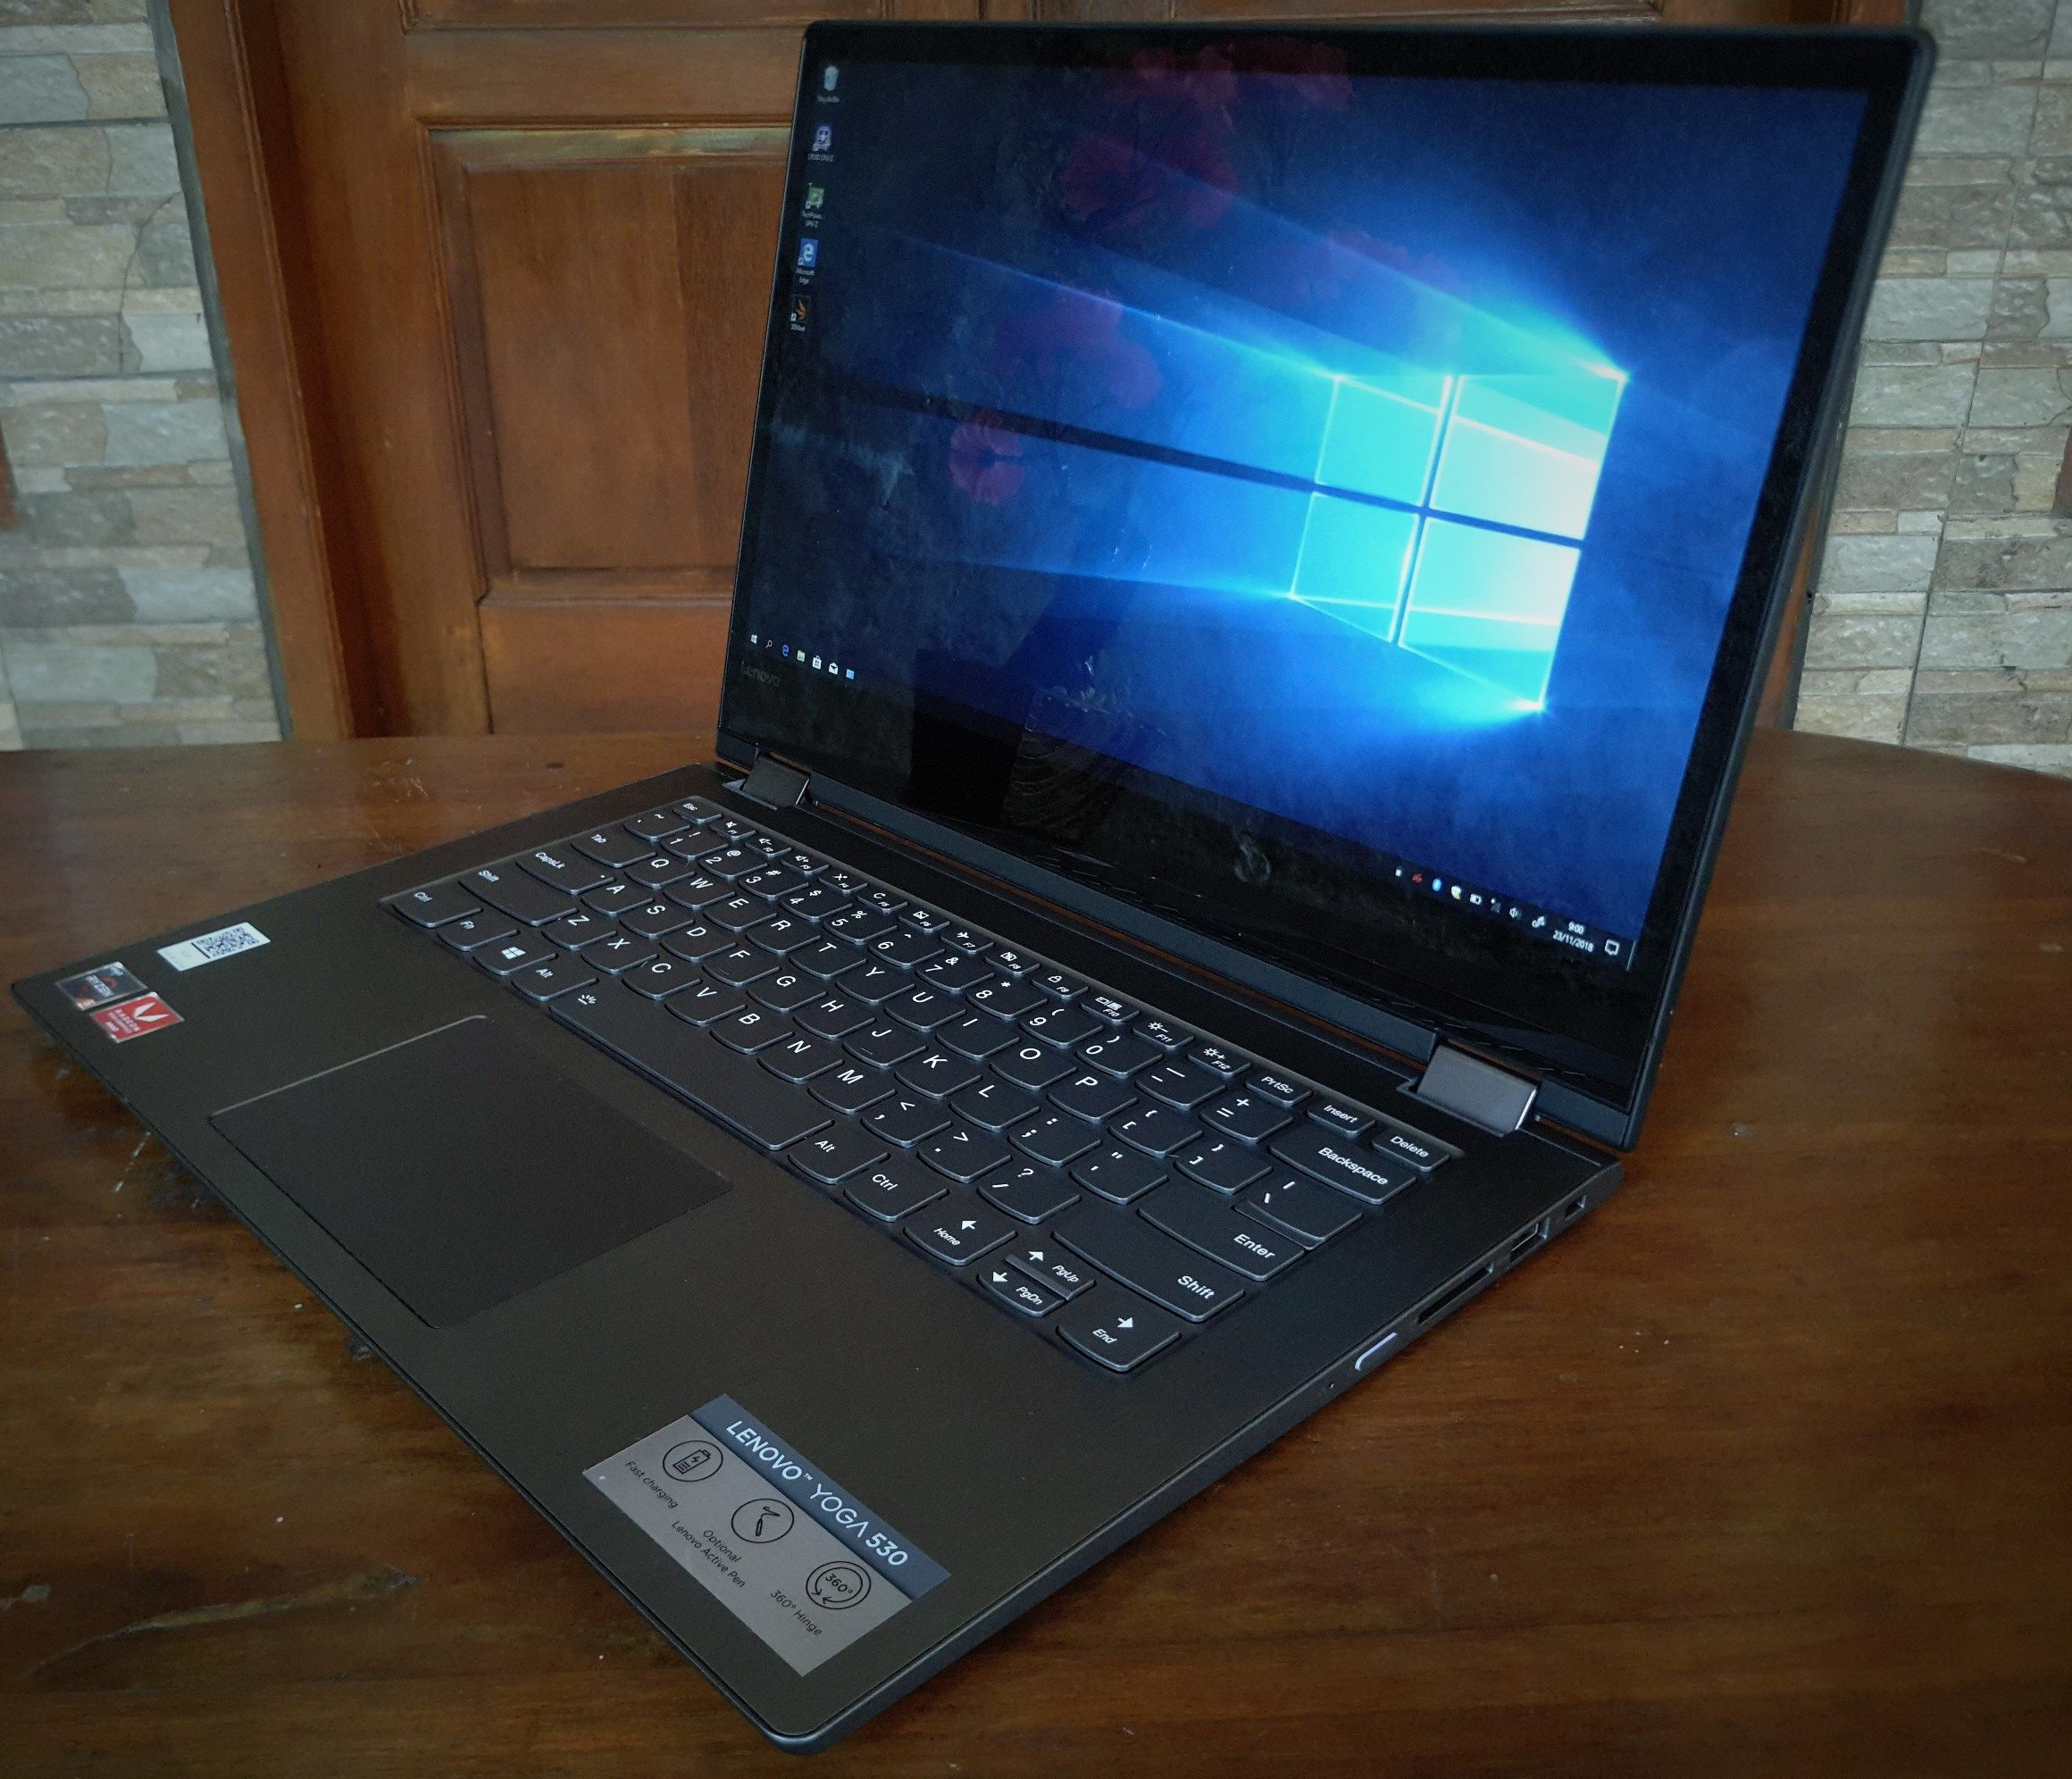Laptop: (4, 9, 1954, 1779)
